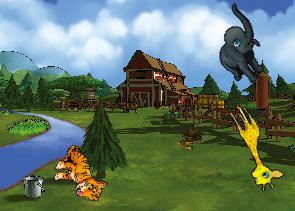elephant: (196, 2, 285, 90)
giraffe: (217, 101, 287, 194)
tiger: (47, 141, 115, 205)
